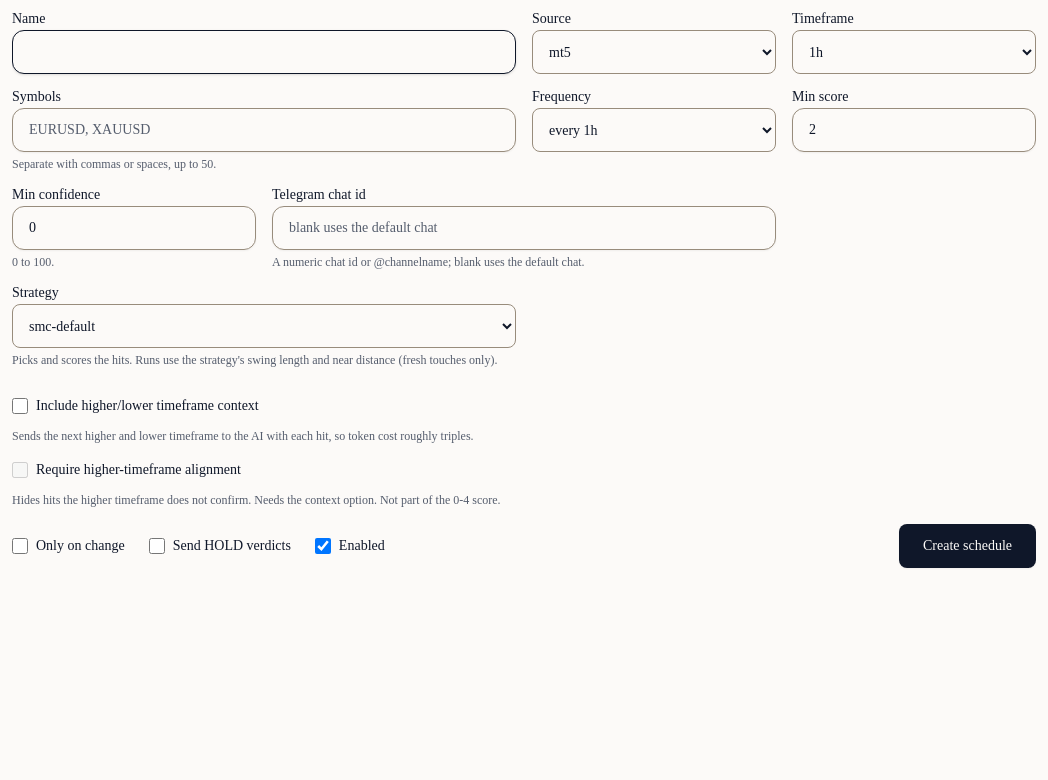
ScheduleForm multi-timeframe options › enables the second option once mtf is on
Step 1. Click the checkbox labelled "Include higher/lower timeframe context" → (20, 406), box [12,398,28,414]
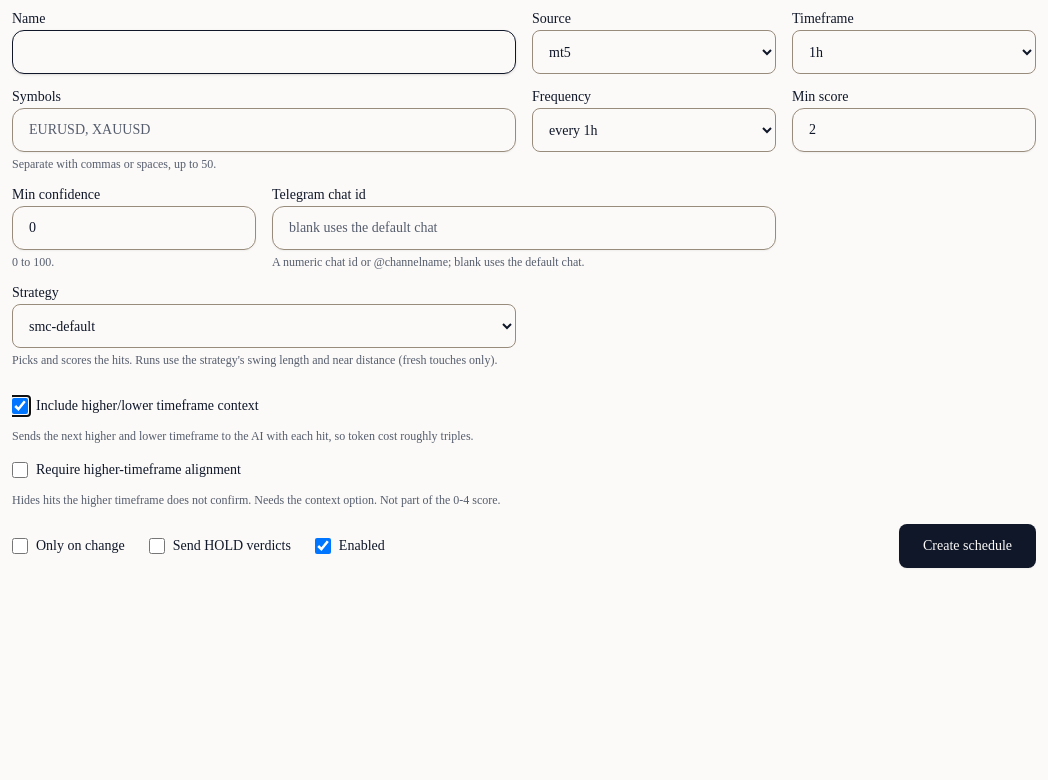
Expected: the checkbox labelled "Require higher-timeframe alignment" is enabled, [12,462,28,478]
